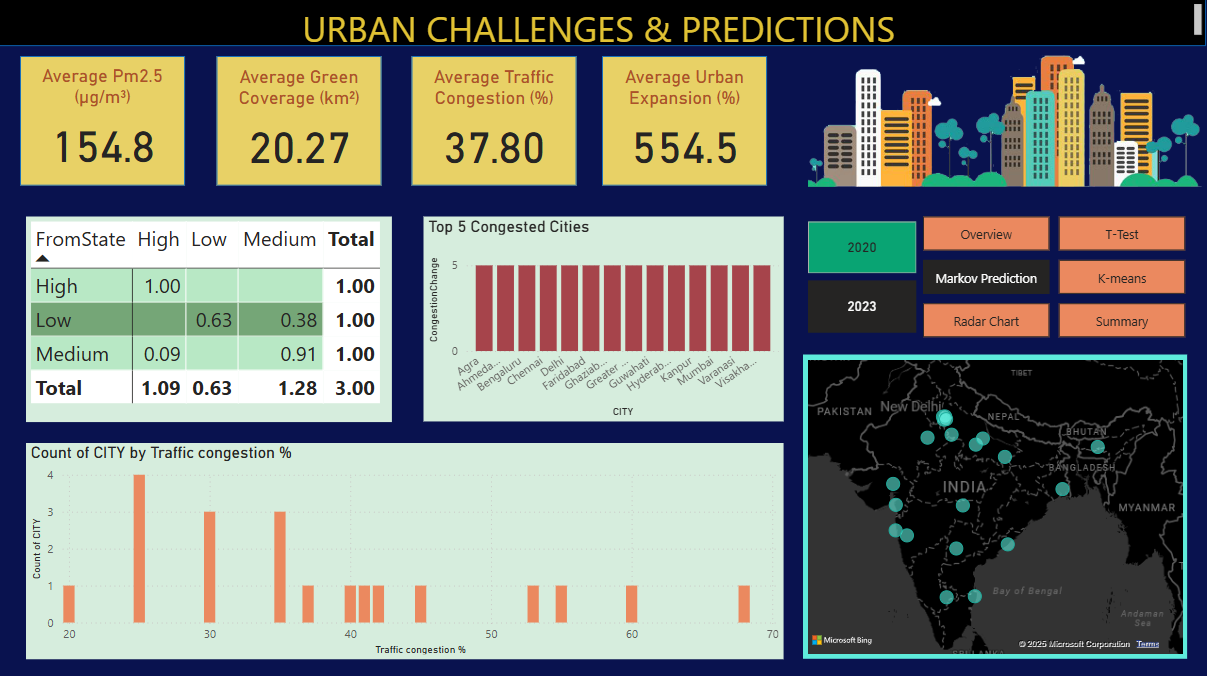

The dashboard page shown, as its layout file describes it:
{"tool":"powerbi","page":{"name":"Markov Prediction","canvas":[1280,720],"ordinal":2},"visuals":[{"type":"image","box":[852.5,50,427.5,160],"z":0},{"type":"shape","box":[0,0,1280,50],"z":1000},{"type":"textbox","box":[0,0,1280,50],"z":2000},{"type":"shape","box":[640,60,175,137.5],"z":3000},{"type":"shape","box":[437.5,60,175,137.5],"z":4000},{"type":"shape","box":[230,60,175,137.5],"z":5000},{"type":"shape","box":[22.5,60,175,137.5],"z":6000},{"type":"map","fields":{"Category":["Sheet1.CITY"]},"box":[852.5,377.5,407.5,322.5],"z":7000},{"type":"pageNavigator","box":[979.8,230.6,279.9,128.8],"z":8000},{"type":"card","title":"Average Pm2.5 (µg/m³)","fields":{"Values":["Avg(Sheet1.Pm2.5 levels)"]},"box":[36.6,70,146.3,117.7],"z":9000},{"type":"card","title":"Average Green Coverage (km²)","fields":{"Values":["Avg(Sheet1.green coverage)"]},"box":[245,71.6,146.3,117.7],"z":10000},{"type":"card","title":"Average Traffic Congestion (%)","fields":{"Values":["Avg(Sheet1.Traffic congestion %)"]},"box":[451.7,71.6,146.3,117.7],"z":11000},{"type":"card","title":"Average Urban Expansion (%)","fields":{"Values":["Avg(Sheet1.urban expansion )"]},"box":[653.7,71.6,146.3,117.7],"z":12000},{"type":"advancedSlicerVisual","fields":{"Values":["Sheet1.YEAR"]},"box":[852.6,230.6,125.7,128.8],"z":13000},{"type":"pivotTable","fields":{"Rows":["TransitionMatrix.FromState"],"Columns":["TransitionMatrix.ToState"],"Values":["Sum(TransitionMatrix.Probabiltity)"]},"box":[28.6,230.6,388.1,217.9],"z":14000},{"type":"clusteredColumnChart","fields":{"Y":["CountNonNull(Sheet1.CITY)"],"Category":["Sheet1.Traffic congestion %"]},"box":[28.6,470.8,803.3,229],"z":15000},{"type":"clusteredColumnChart","title":"Top 5 Congested Cities","fields":{"Category":["Sheet1.CITY"],"Y":["Sheet1.CongestionChange"]},"box":[449.8,230.6,381.7,217.3],"z":16000}]}

Visuals, with their boxes in screenshot pixels (x1, y1, x2, y2), scaled from the page's 1280x720 canvas onto the 1207x676 screenshot:
image: box=[804, 47, 1206, 197]
shape: box=[0, 0, 1206, 47]
textbox: box=[0, 0, 1206, 47]
shape: box=[604, 56, 769, 185]
shape: box=[413, 56, 578, 185]
shape: box=[217, 56, 382, 185]
shape: box=[21, 56, 186, 185]
map - Sheet1.CITY: box=[804, 354, 1188, 657]
pageNavigator: box=[924, 217, 1188, 337]
"Average Pm2.5 (µg/m³)" card: box=[35, 66, 172, 176]
"Average Green Coverage (km²)" card: box=[231, 67, 369, 178]
"Average Traffic Congestion (%)" card: box=[426, 67, 564, 178]
"Average Urban Expansion (%)" card: box=[616, 67, 754, 178]
advancedSlicerVisual - Sheet1.YEAR: box=[804, 217, 923, 337]
pivotTable - TransitionMatrix.FromState x TransitionMatrix.ToState: box=[27, 217, 393, 421]
clusteredColumnChart - CountNonNull(Sheet1.CITY) x Sheet1.Traffic congestion %: box=[27, 442, 784, 657]
"Top 5 Congested Cities" clusteredColumnChart: box=[424, 217, 784, 421]
